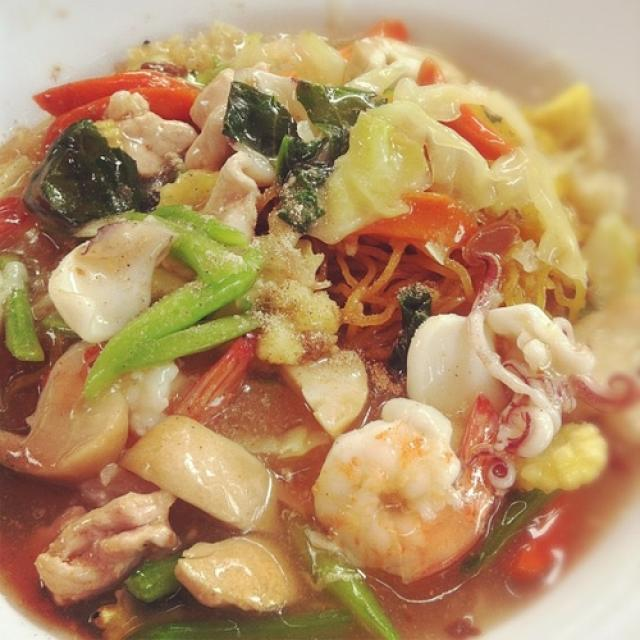面条主食: (23, 23, 623, 621)
